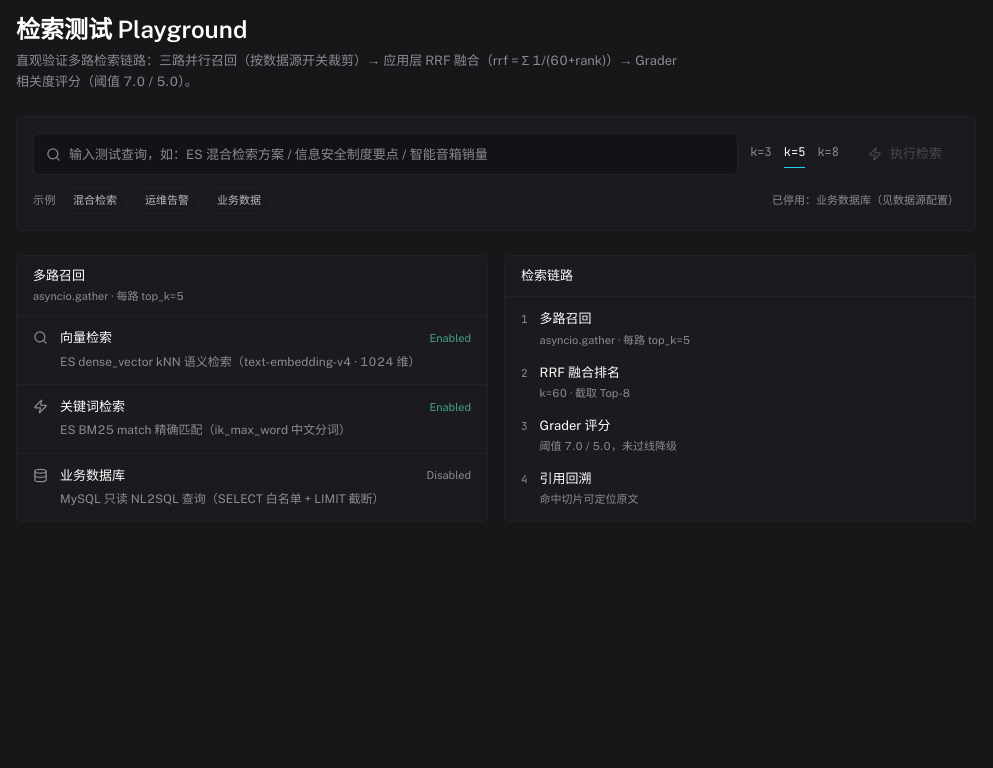
PlaygroundView › 运行后各路召回并展示命中
Type "年假怎么算" into the field with placeholder "输入测试查询，如：ES 混合检索方案 / 信息安全制度要点 / 智能音箱销量".
click(397, 154); type("年假怎么算")  # box [69, 134, 725, 174]
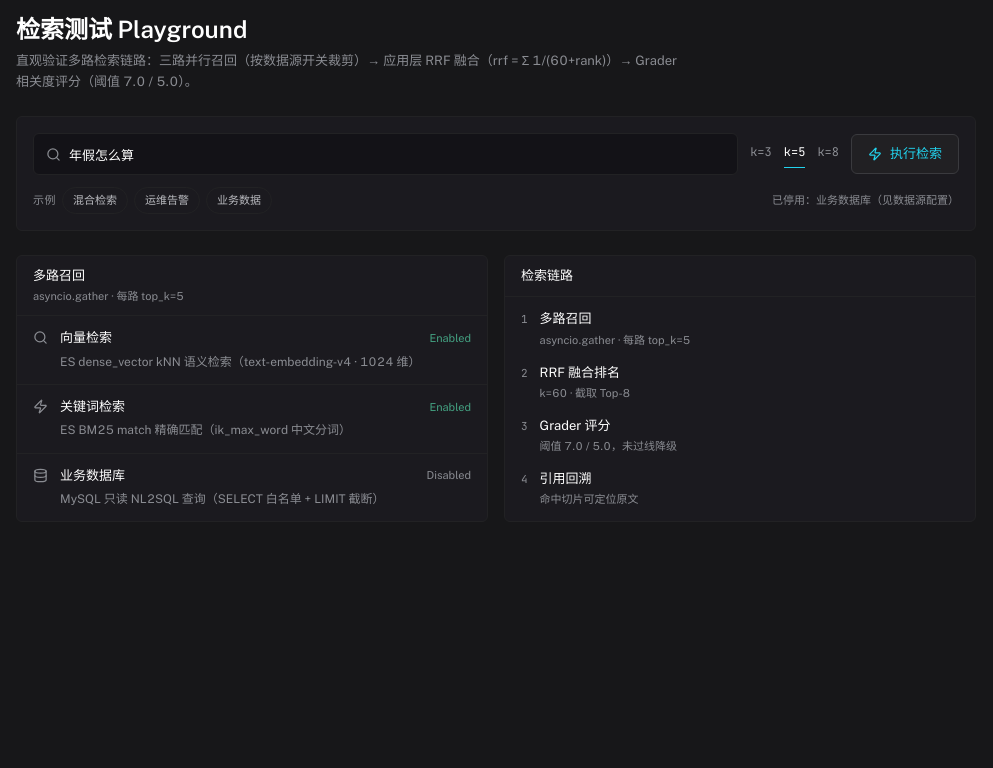
Click the button "执行检索".
click(905, 154)  # box [851, 134, 959, 174]
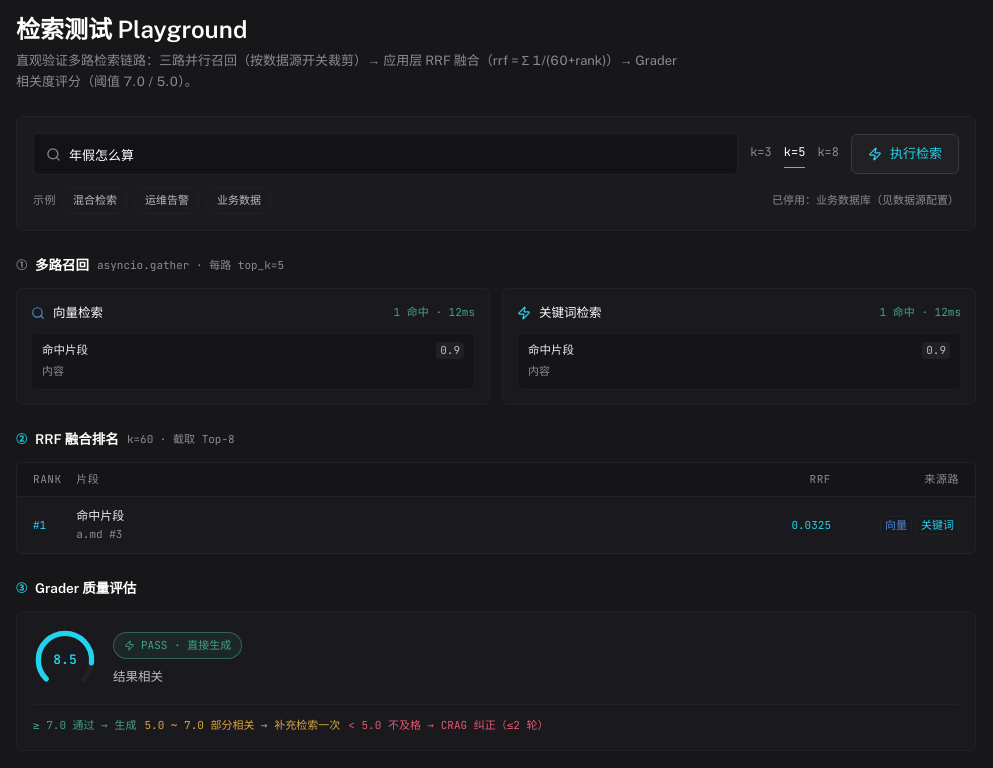
Expected: the text "命中片段" is shown, [42, 343, 88, 357]
